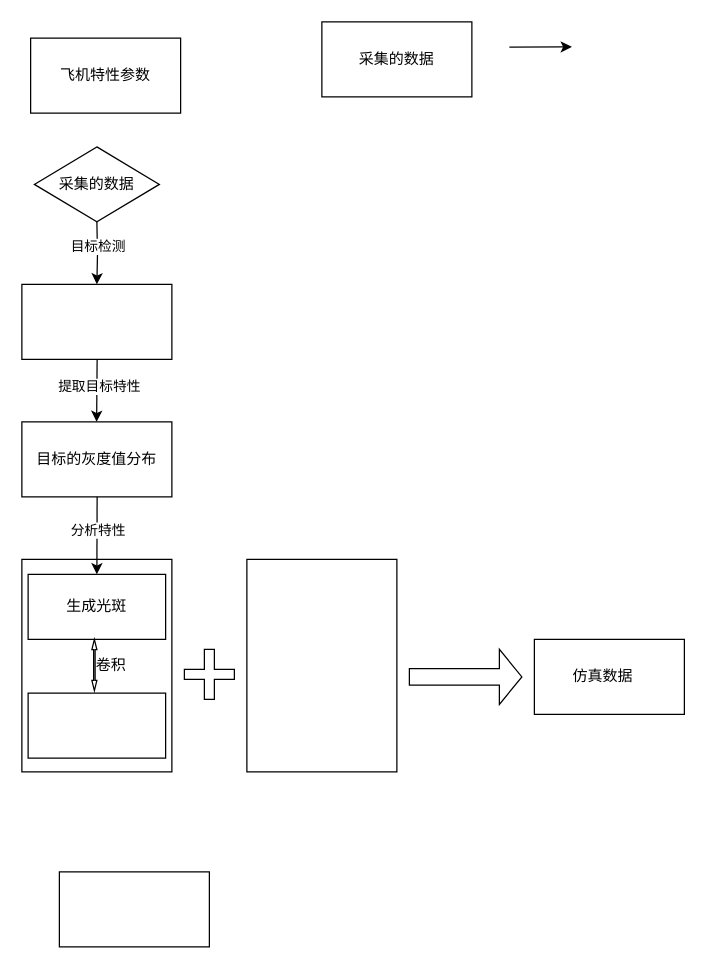
This 706x969 diagram has some shape labels left out. The shapes that lost their labels are listed below. From the top down, each one's centre as x and y in pixels, then its label:
(x=96, y=321): 已检测图像
(x=321, y=665): 背景图
(x=96, y=725): 艾里斑（PSF）
